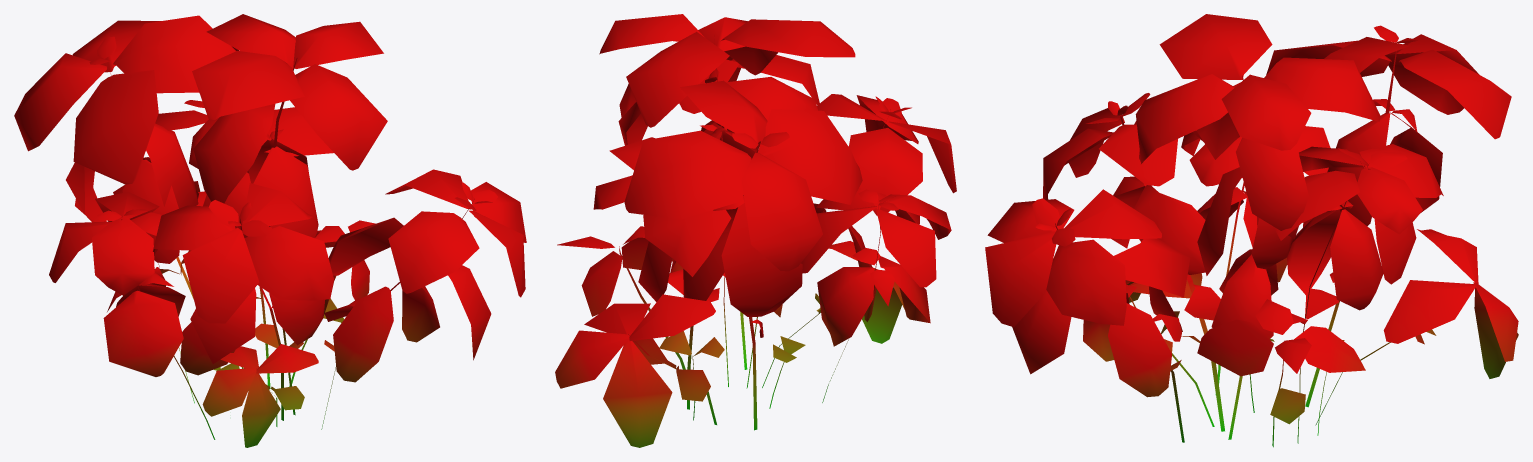
The model's file is Basil_LOD4_Var1_vgpochzia.fbx.
The picture shows the model from 3 angles, left to right: view 1: azimuth 30°, elevation 25°; view 2: azimuth 150°, elevation 25°; view 3: azimuth 270°, elevation 25°; orthographic projection. The views are drawn at different scales.
Parts seen in each view (by area): view 1: _a528_Var1_LOD4; view 2: _a528_Var1_LOD4; view 3: _a528_Var1_LOD4.
Boxes of the visible parts, x1,y1,x2,y2 form: _a528_Var1_LOD4: (14,14,526,447); _a528_Var1_LOD4: (555,14,956,447); _a528_Var1_LOD4: (985,14,1518,447).
Bounding box in the file's own units: 33.9 × 31.41 × 39.19.
